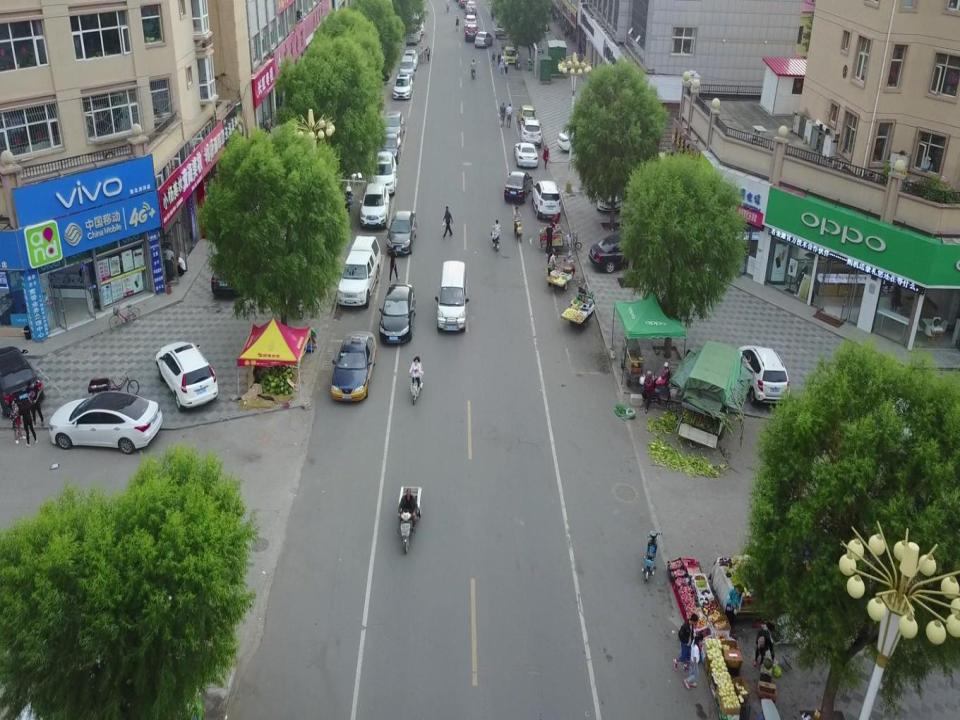car: (49, 391, 163, 454), (155, 341, 219, 409), (736, 344, 792, 406), (330, 331, 376, 401), (337, 235, 381, 308), (1, 346, 45, 417), (589, 233, 653, 273), (378, 284, 416, 344), (211, 246, 247, 298), (360, 181, 390, 227), (386, 210, 417, 254), (371, 150, 398, 194), (594, 169, 622, 211), (532, 180, 561, 219), (558, 128, 600, 153), (503, 170, 532, 202), (379, 132, 402, 163), (382, 109, 405, 140), (520, 116, 542, 148), (514, 142, 538, 168), (392, 73, 413, 98), (517, 104, 536, 128), (474, 31, 493, 47), (403, 50, 418, 70), (464, 23, 479, 42), (406, 28, 422, 44), (408, 19, 424, 35), (503, 47, 517, 64), (463, 15, 478, 29), (464, 1, 476, 15)
truck: (672, 339, 753, 450)
van: (434, 261, 470, 332), (399, 56, 414, 76)
